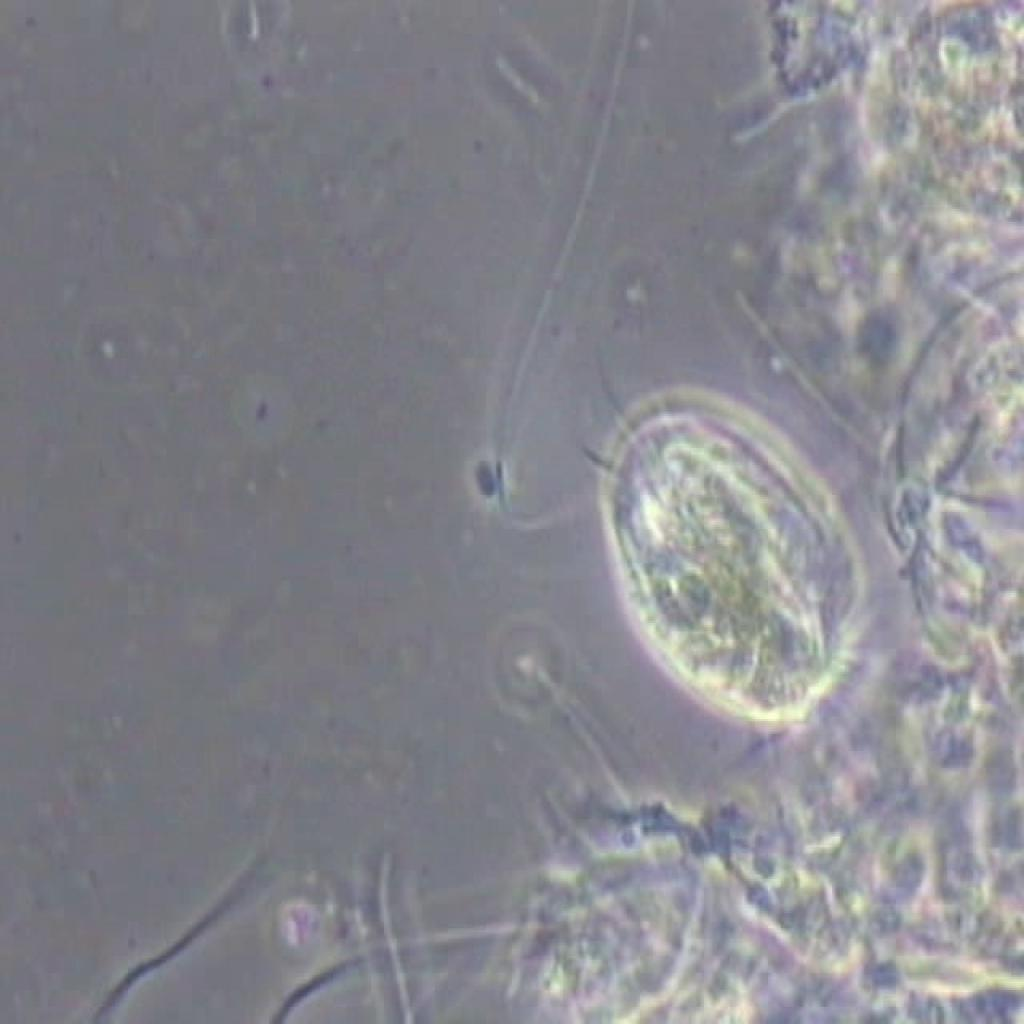Euplotes: (566, 354, 882, 755)
